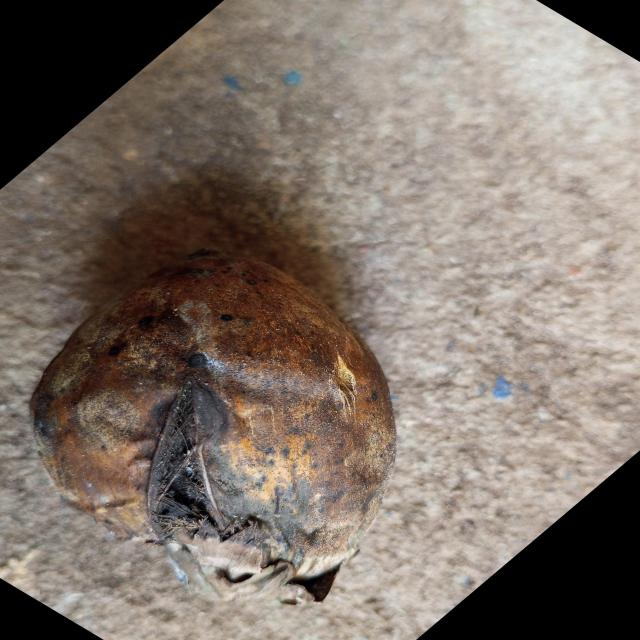damaged: (31, 252, 395, 603)
